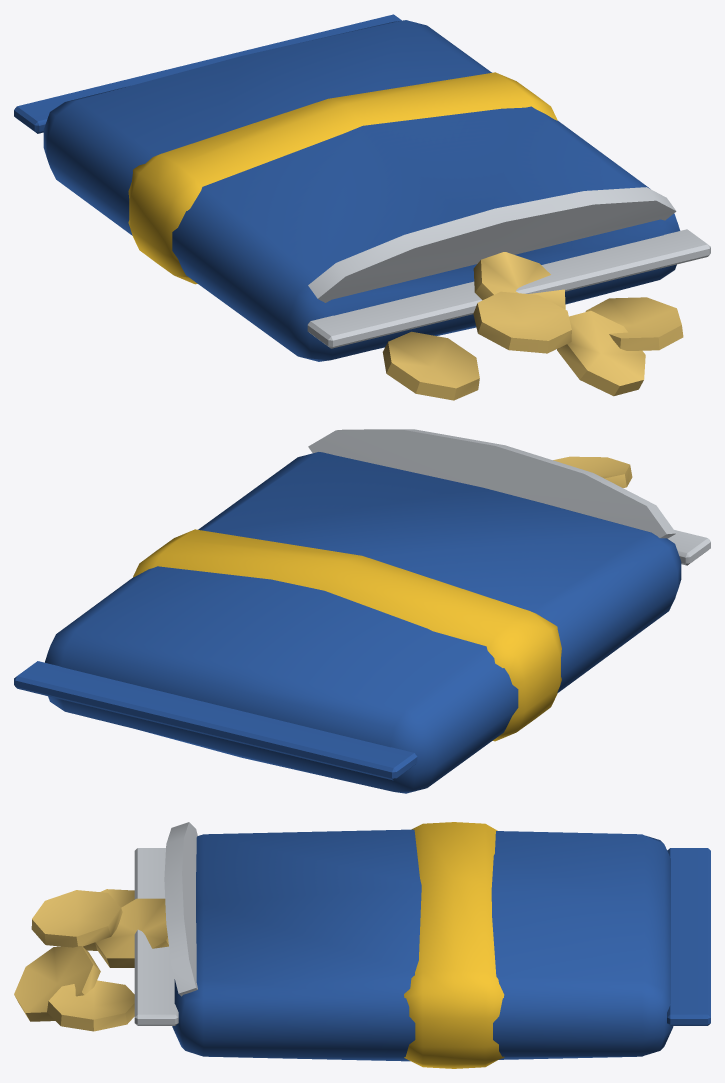
The model's file is crisps.glb.
3 renders of one model, top to bottom at view 1: azimuth 30°, elevation 25°; view 2: azimuth 150°, elevation 25°; view 3: azimuth 270°, elevation 25°, orthographic. The views are drawn at different scales.
Visible parts, largest first — view 1: crisps; view 2: crisps; view 3: crisps.
Part boxes in pixels (x1,y1,x2,y2): crisps: [14, 14, 710, 400]; crisps: [14, 429, 710, 793]; crisps: [14, 822, 710, 1068].
Size of the model in its own units: 0.132 by 0.049 by 0.2225.
